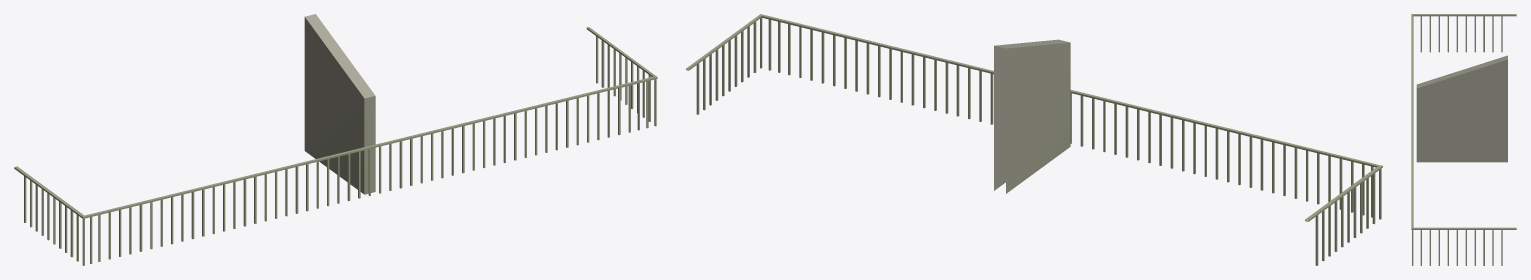
Rendered from RoofBalcon (2).fbx.
The picture shows the model from 3 angles, left to right: view 1: azimuth 30°, elevation 25°; view 2: azimuth 150°, elevation 25°; view 3: azimuth 270°, elevation 25°; orthographic projection. The views are drawn at different scales.
Parts seen in each view (by area): view 1: BalconTopClosed.001; view 2: BalconTopClosed.001; view 3: BalconTopClosed.001.
Boxes of the visible parts, left/top/right/bottom form: BalconTopClosed.001: left=14, top=14, right=657, bottom=265; BalconTopClosed.001: left=686, top=14, right=1382, bottom=265; BalconTopClosed.001: left=1411, top=14, right=1516, bottom=265.
Bounding box in the file's own units: 2533 × 566 × 525.
